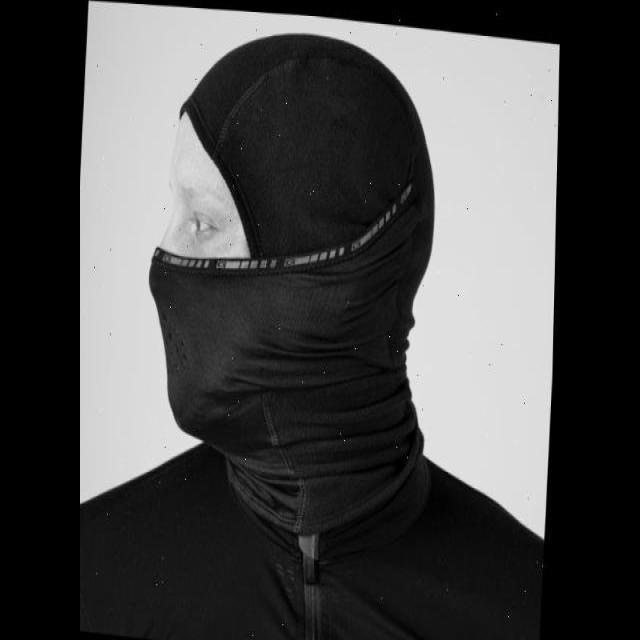6_pasamontana: (147, 33, 436, 535)
